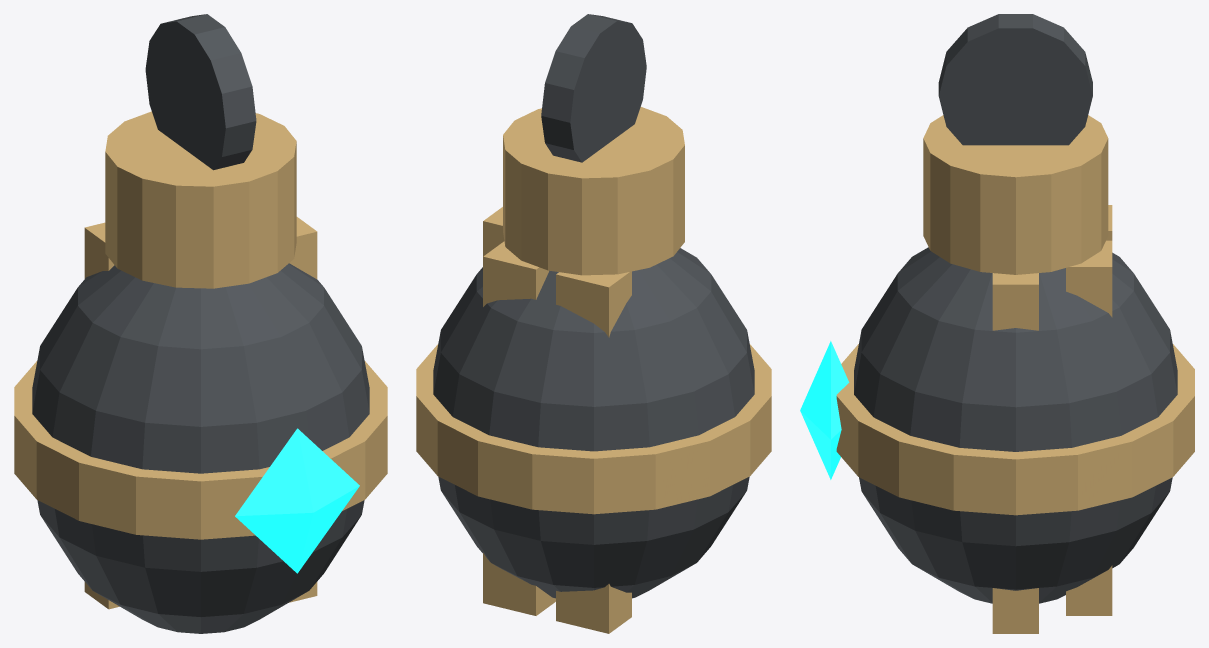
The model's file is SM_MKG_AetheriumGrenade_A01.fbx.
3 views of the same model, side by side, from view 1: azimuth 30°, elevation 25°; view 2: azimuth 150°, elevation 25°; view 3: azimuth 270°, elevation 25° (orthographic). The views are drawn at different scales.
Parts seen in each view (by area): view 1: Shell_DarkIron_Oval, Top_Cap_Brass, Equator_Brass_Rib, Pull_Ring_DarkIron, Core_Aetherium_Window, Vertical_Brass_Rib_120, Vertical_Brass_Rib_0; view 2: Shell_DarkIron_Oval, Equator_Brass_Rib, Top_Cap_Brass, Pull_Ring_DarkIron, Vertical_Brass_Rib_120, Vertical_Brass_Rib_60, Vertical_Brass_Rib_0; view 3: Shell_DarkIron_Oval, Equator_Brass_Rib, Top_Cap_Brass, Pull_Ring_DarkIron, Vertical_Brass_Rib_0, Vertical_Brass_Rib_60, Core_Aetherium_Window.
Part boxes in pixels (<box>): Shell_DarkIron_Oval: <box>32,263,369,633</box>; Top_Cap_Brass: <box>105,111,296,288</box>; Equator_Brass_Rib: <box>14,361,387,539</box>; Pull_Ring_DarkIron: <box>145,14,256,170</box>; Core_Aetherium_Window: <box>235,428,359,573</box>; Vertical_Brass_Rib_120: <box>84,222,119,609</box>; Vertical_Brass_Rib_0: <box>289,217,317,602</box>; Shell_DarkIron_Oval: <box>433,248,754,598</box>; Equator_Brass_Rib: <box>416,344,771,514</box>; Top_Cap_Brass: <box>503,107,684,275</box>; Pull_Ring_DarkIron: <box>541,14,646,162</box>; Vertical_Brass_Rib_120: <box>556,271,631,633</box>; Vertical_Brass_Rib_60: <box>483,241,555,615</box>; Vertical_Brass_Rib_0: <box>483,207,504,256</box>; Shell_DarkIron_Oval: <box>854,247,1177,603</box>; Equator_Brass_Rib: <box>836,344,1194,515</box>; Top_Cap_Brass: <box>923,115,1108,274</box>; Pull_Ring_DarkIron: <box>938,14,1092,145</box>; Vertical_Brass_Rib_0: <box>992,273,1038,633</box>; Vertical_Brass_Rib_60: <box>1066,240,1112,615</box>; Core_Aetherium_Window: <box>800,341,849,479</box>.
Size of what is drawn, in the model's own units: 2562 by 2360 by 4087.
